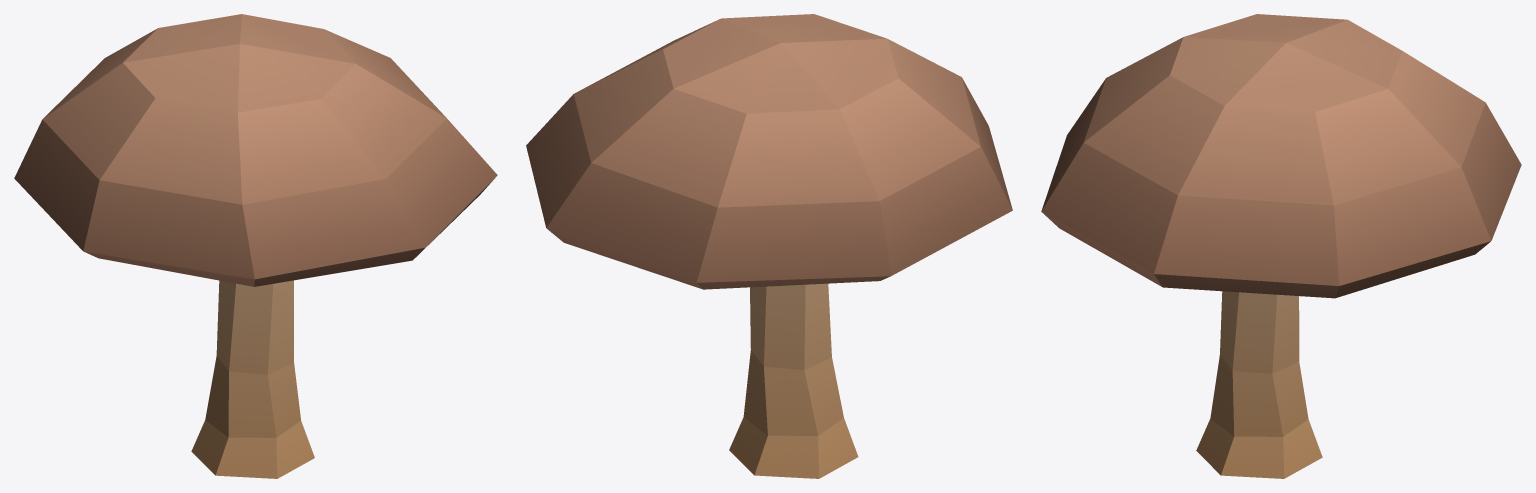
File: grzyb7.fbx
The picture shows the model from 3 angles, left to right: view 1: azimuth 30°, elevation 25°; view 2: azimuth 150°, elevation 25°; view 3: azimuth 270°, elevation 25°; orthographic projection. The views are drawn at different scales.
Parts seen in each view (by area): view 1: grzyb7, Circle.003; view 2: grzyb7, Circle.003; view 3: grzyb7, Circle.003.
Boxes of the visible parts, left/top/right/bottom form: grzyb7: left=14, top=14, right=497, bottom=286; Circle.003: left=191, top=280, right=314, bottom=478; grzyb7: left=526, top=14, right=1012, bottom=289; Circle.003: left=729, top=283, right=858, bottom=478; grzyb7: left=1041, top=14, right=1521, bottom=298; Circle.003: left=1196, top=291, right=1322, bottom=478.
Bounding box in the file's own units: 460 × 434 × 460.
